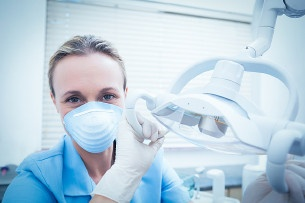Mask: (56, 84, 125, 153)
